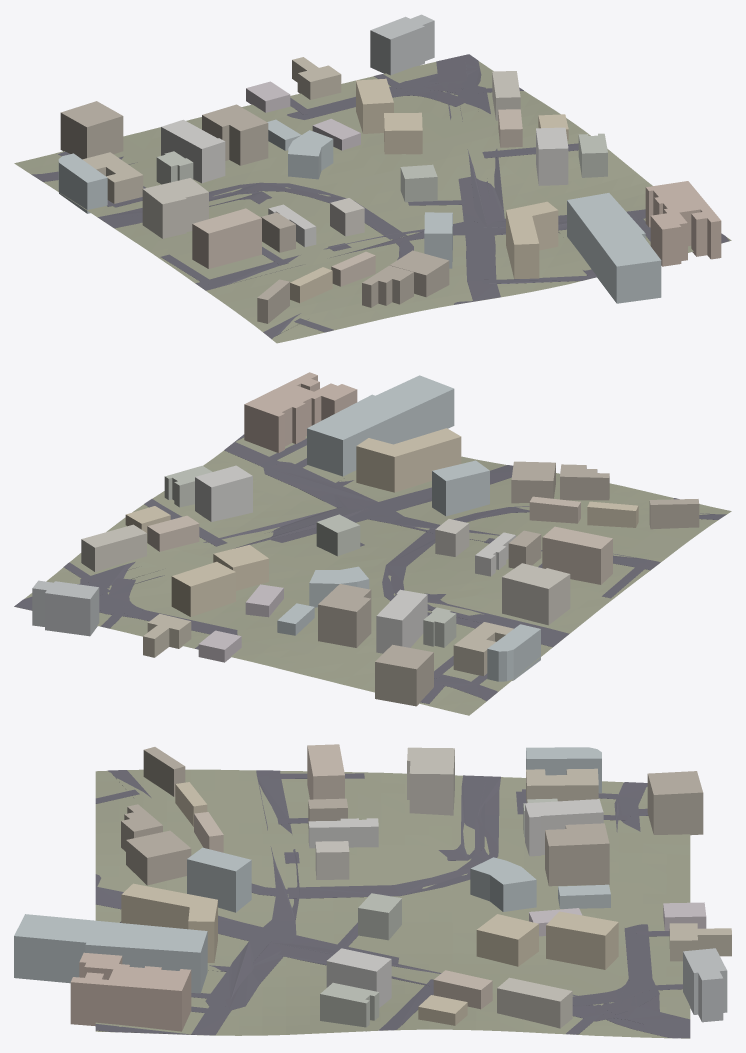
Rendered from chunk_2_0.glb.
3 views of the same model, one above another, from view 1: azimuth 30°, elevation 25°; view 2: azimuth 150°, elevation 25°; view 3: azimuth 270°, elevation 25° (orthographic). The views are drawn at different scales.
Parts seen in each view (by area): view 1: geometry_34, geometry_3, geometry_33, geometry_9, geometry_26, geometry_2, geometry_20, geometry_13, geometry_18, geometry_17, geometry_15, geometry_37 (+32 smaller); view 2: geometry_34, geometry_3, geometry_33, geometry_2, geometry_26, geometry_20, geometry_9, geometry_13, geometry_18, geometry_27, geometry_4, geometry_5 (+35 smaller); view 3: geometry_34, geometry_3, geometry_33, geometry_37, geometry_2, geometry_18, geometry_27, geometry_13, geometry_5, geometry_26, geometry_0, geometry_20 (+38 smaller).
Part boxes in pixels (x1,y1,x2,y2): geometry_34: (14,61,731,343); geometry_3: (567,193,661,303); geometry_33: (645,181,721,266); geometry_9: (192,208,261,268); geometry_26: (142,178,208,238); geometry_2: (506,201,558,278); geometry_20: (370,14,434,75); geometry_13: (60,101,123,159); geometry_18: (202,104,268,165); geometry_17: (161,119,225,183); geometry_15: (58,153,107,213); geometry_37: (98,182,407,239); geometry_34: (14,436,731,715); geometry_3: (307,375,454,476); geometry_33: (244,372,357,452); geometry_2: (356,428,461,492); geometry_26: (502,563,570,625); geometry_20: (32,580,99,636); geometry_9: (542,526,612,584); geometry_13: (375,644,433,706); geometry_18: (318,584,371,647); geometry_27: (171,561,235,616); geometry_4: (195,465,252,521); geometry_5: (432,460,489,516); geometry_34: (95,769,690,1038); geometry_3: (14,914,207,993); geometry_33: (70,952,191,1031); geometry_37: (287,776,500,898); geometry_2: (121,883,217,962); geometry_18: (545,823,609,886); geometry_27: (546,911,618,969); geometry_13: (647,771,703,835); geometry_5: (187,847,251,912); geometry_26: (407,747,454,815); geometry_0: (497,977,572,1028); geometry_20: (683,948,727,1022).
Size of the model in its own units: 250 by 25.95 by 302.
